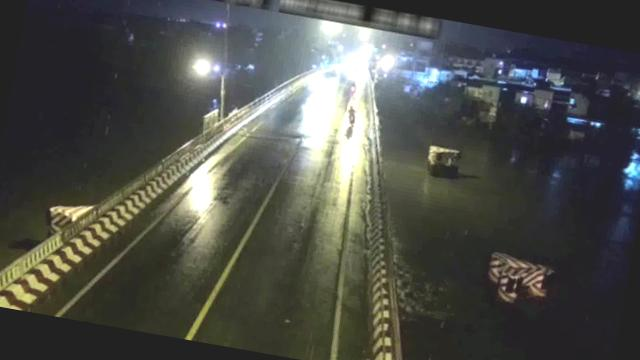Bike: (345, 104, 358, 128)
